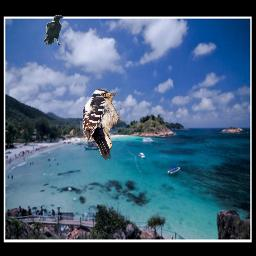Crow: (43, 15, 64, 45)
Woodpecker: (80, 88, 128, 160)
